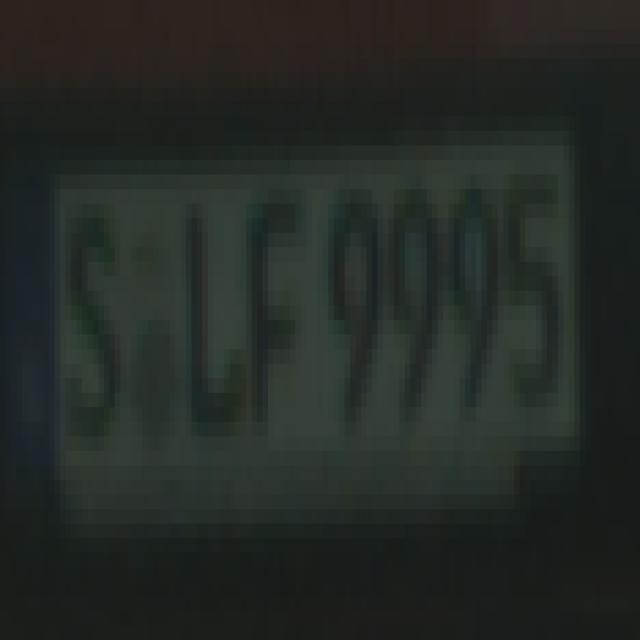Autre: (1, 128, 591, 498)
